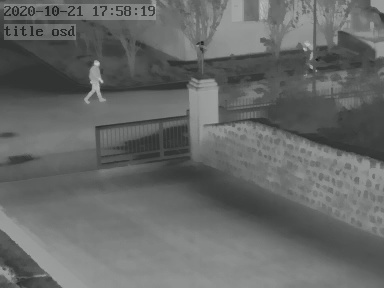person: (86, 58, 103, 102)
